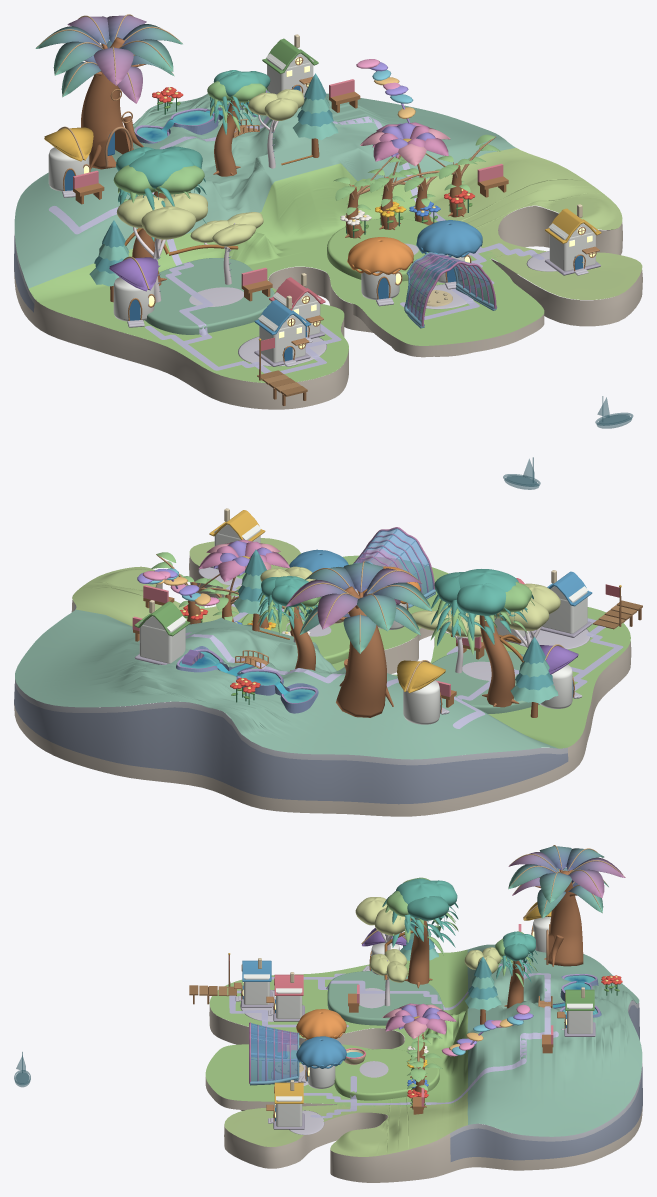
The model's file is study.glb.
The picture shows the model from 3 angles, top to bottom: view 1: azimuth 30°, elevation 25°; view 2: azimuth 150°, elevation 25°; view 3: azimuth 270°, elevation 25°; orthographic projection. The views are drawn at different scales.
Visible parts, largest first — view 1: authored-evaluated-floor, Coast / continuous layered shore:0, grove / living violet and jade lamina, growing-reachable-paths, growing-objects, sculpted tree wood.002, authored-bank.051, Harbor__continuous_translucent_shell_hall_1, home / scalloped blue cap, home / scalloped blue cap.001, house / porcelain plaster.007, role-l14-2234 (+34 smaller); view 2: authored-evaluated-floor, Coast / continuous layered shore:1, Coast / continuous layered shore:0, grove / living violet and jade lamina, Coast / continuous layered shore:2, sculpted tree wood.002, growing-reachable-paths, Harbor__continuous_translucent_shell_hall_1, growing-objects, role-l14-2743, house / porcelain plaster.004, role-l14-2237 (+29 smaller); view 3: authored-evaluated-floor, Coast / continuous layered shore:0, grove / living violet and jade lamina, Coast / continuous layered shore:1, growing-reachable-paths, sculpted tree wood.002, Harbor__continuous_translucent_shell_hall_1, growing-objects, home / scalloped blue cap.001, home / scalloped blue cap, growing-relation-C02, Coast / continuous layered shore:2 (+24 smaller).
Part boxes in pixels (x1,y1,x2,y2): authored-evaluated-floor: (14,89,642,382); Coast / continuous layered shore:0: (14,206,642,409); grove / living violet and jade lamina: (35,15,182,103); growing-reachable-paths: (49,116,544,373); growing-objects: (73,79,506,306); sculpted tree wood.002: (81,37,143,169); authored-bank.051: (353,304,544,357); Harbor__continuous_translucent_shell_hall_1: (406,257,493,322); home / scalloped blue cap: (347,237,413,274); home / scalloped blue cap.001: (416,220,482,257); house / porcelain plaster.007: (548,223,596,271); role-l14-2234: (129,149,194,188); authored-evaluated-floor: (15,538,630,759); Coast / continuous layered shore:1: (14,609,568,804); Coast / continuous layered shore:0: (14,555,631,816); grove / living violet and jade lamina: (286,562,431,653); Coast / continuous layered shore:2: (15,604,567,765); sculpted tree wood.002: (336,586,393,717); growing-reachable-paths: (185,579,623,728); Harbor__continuous_translucent_shell_hall_1: (355,528,433,594); growing-objects: (132,585,484,707); role-l14-2743: (479,615,515,707); house / porcelain plaster.004: (139,616,186,663); role-l14-2237: (456,583,506,615); authored-evaluated-floor: (205,944,642,1156); Coast / continuous layered shore:0: (209,952,642,1182); grove / living violet and jade lamina: (508,846,625,918); Coast / continuous layered shore:1: (450,1000,642,1161); growing-reachable-paths: (229,960,558,1118); sculpted tree wood.002: (544,870,583,966); Harbor__continuous_translucent_shell_hall_1: (251,1023,297,1081); growing-objects: (275,924,622,1114); home / scalloped blue cap.001: (296,1036,346,1068); home / scalloped blue cap: (296,1009,346,1039); growing-relation-C02: (441,1004,533,1056); Coast / continuous layered shore:2: (450,951,642,1141).
Bounding box in the file's own units: 15.34 × 5.82 × 19.47.
